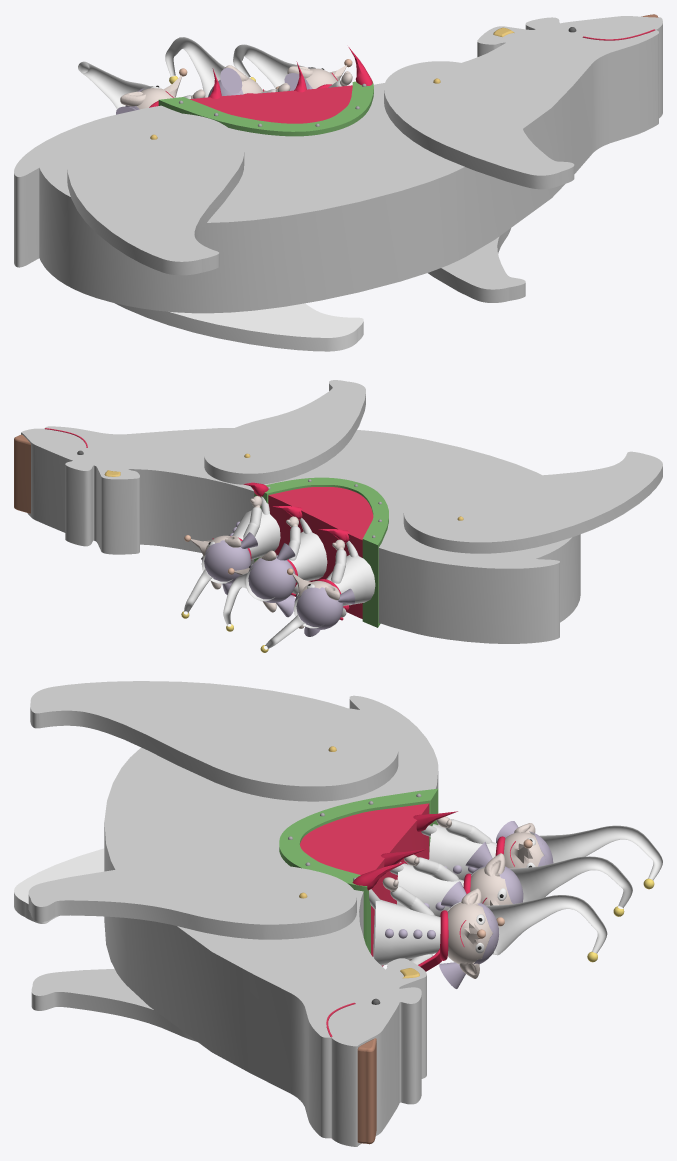
The model's file is 요정이랑 북극곰.glb.
3 renders of one model, top to bottom at view 1: azimuth 30°, elevation 25°; view 2: azimuth 150°, elevation 25°; view 3: azimuth 270°, elevation 25°, orthographic. The views are drawn at different scales.
Parts seen in each view (by area): view 1: 몸통, 뒷다리1 (×2), 앞다리1 (×2), 모자 (×3), Extrude, Extrude.1, Sphere (×2); view 2: 몸통, 뒷다리1, 앞다리1, Extrude, Sphere (×3), 몸 (×3), Extrude.1, 모자 (×3), 코구녕, Cone; view 3: 몸통, 뒷다리1 (×2), 앞다리1 (×2), 모자 (×3), Extrude, 몸 (×3), Extrude.1, Sphere (×3), 코구녕, Cone.
Part boxes in pixels (x1=…): 몸통: x1=14, y1=16, x2=662, y2=313; 뒷다리1 (×2): x1=67, y1=112, x2=363, y2=351; 앞다리1 (×2): x1=384, y1=61, x2=574, y2=302; 모자 (×3): x1=78, y1=37, x2=304, y2=109; Extrude: x1=190, y1=85, x2=352, y2=123; Extrude.1: x1=158, y1=81, x2=373, y2=136; Sphere (×2): x1=137, y1=65, x2=346, y2=109; 몸통: x1=21, y1=426, x2=580, y2=643; 뒷다리1: x1=403, y1=451, x2=662, y2=553; 앞다리1: x1=204, y1=380, x2=365, y2=484; Extrude: x1=268, y1=487, x2=373, y2=618; Sphere (×3): x1=202, y1=540, x2=343, y2=629; 몸 (×3): x1=232, y1=510, x2=375, y2=605; Extrude.1: x1=254, y1=477, x2=388, y2=627; 모자 (×3): x1=184, y1=550, x2=318, y2=648; 코구녕: x1=14, y1=434, x2=30, y2=513; Cone: x1=276, y1=543, x2=295, y2=617; 몸통: x1=104, y1=695, x2=438, y2=1146; 뒷다리1 (×2): x1=14, y1=681, x2=398, y2=923; 앞다리1 (×2): x1=28, y1=861, x2=356, y2=1041; 모자 (×3): x1=486, y1=825, x2=662, y2=955; Extrude: x1=300, y1=803, x2=429, y2=966; 몸 (×3): x1=373, y1=824, x2=496, y2=965; Extrude.1: x1=279, y1=788, x2=438, y2=953; Sphere (×3): x1=447, y1=832, x2=543, y2=963; 코구녕: x1=357, y1=1038, x2=376, y2=1144; Cone: x1=439, y1=881, x2=466, y2=988.
Size of the model in its own units: 178 by 34.93 by 139.
